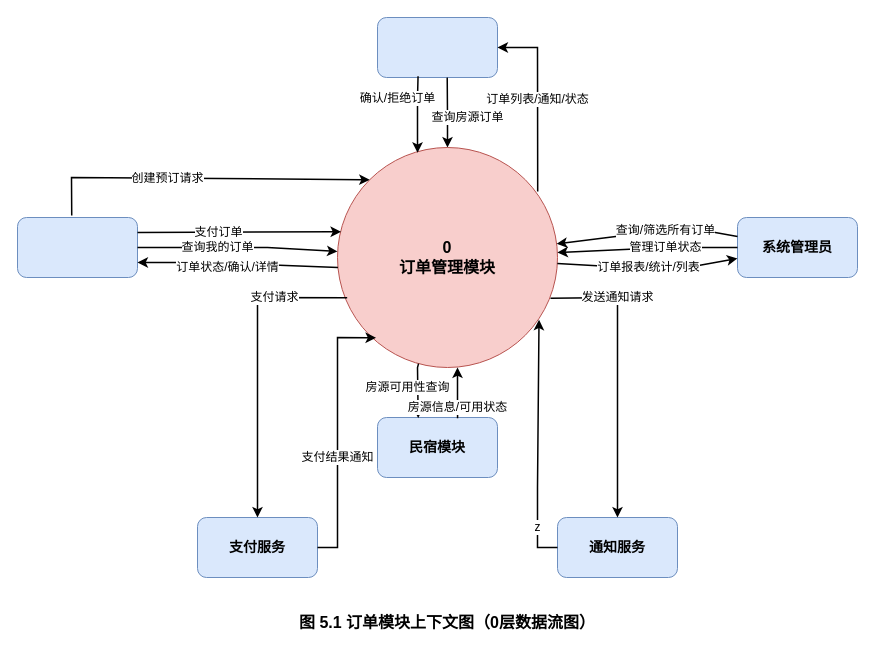
This 875x655 diagram has some shape labels left out. The shapes that lost their labels are listed below. From the top down, each one's centre as x and y in pixels, then its label:
At pixel 437 47: "房东".
At pixel 77 247: "普通用户".
